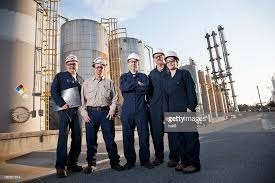helmet: (163, 49, 181, 61), (64, 53, 81, 64), (91, 57, 111, 66), (126, 52, 142, 61), (151, 46, 165, 55)
person with partial safety: (84, 55, 119, 173), (118, 52, 151, 174), (164, 51, 196, 174), (53, 54, 84, 176), (121, 53, 152, 170), (149, 45, 165, 89)
